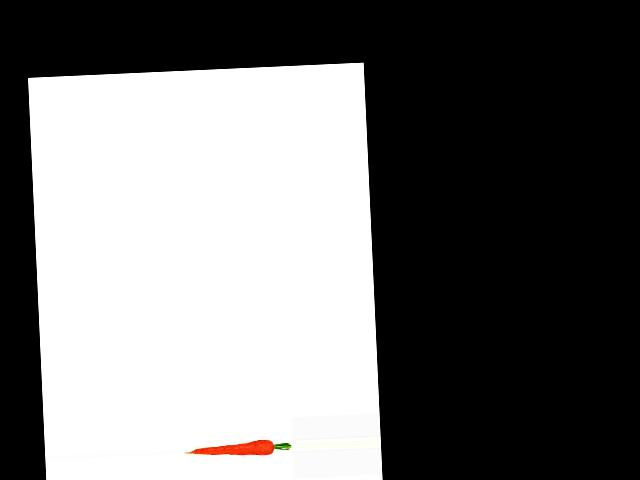carrot: (183, 425, 280, 466)
